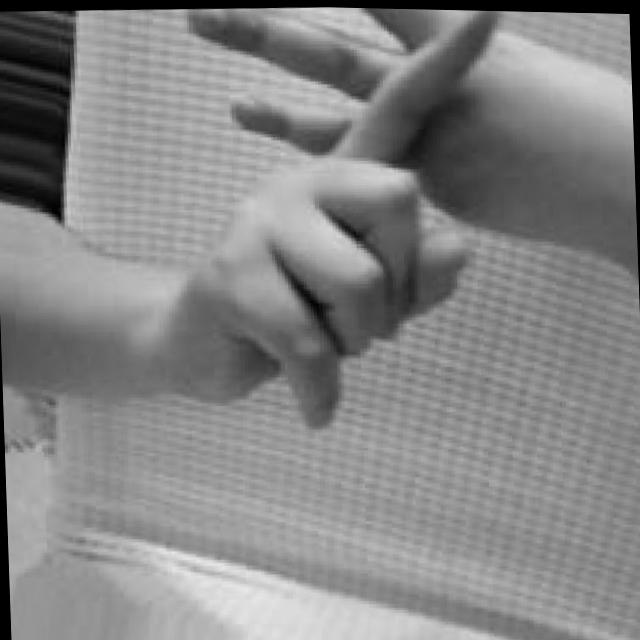E: (111, 2, 542, 446)
